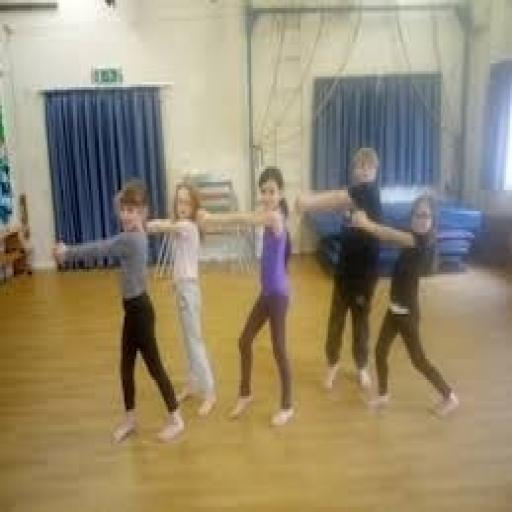dancing: (58, 60, 512, 512)
